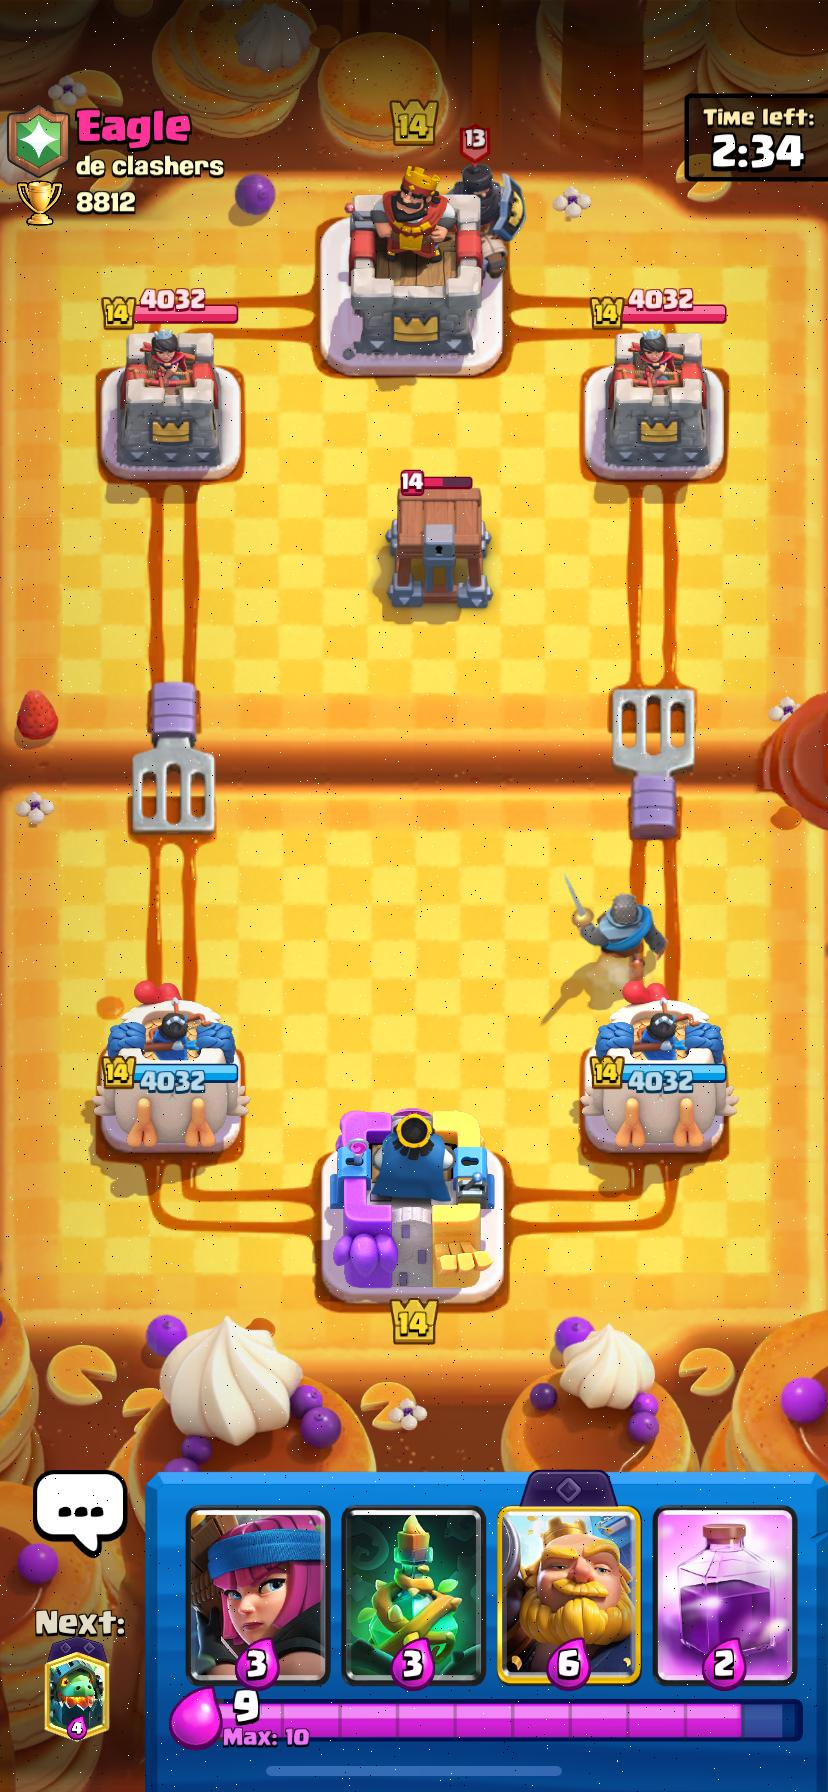EDarkPrince: (451, 160, 525, 243)
EGoblinCage: (387, 470, 491, 606)
EKingTower: (337, 168, 489, 375)
EnemyPrincessTower: (101, 328, 240, 480), (586, 329, 723, 479)
OKnight: (568, 883, 666, 979)
OwnKingTower: (321, 1109, 503, 1303)
OwnPrincessTower: (93, 983, 248, 1151), (581, 987, 737, 1151)
